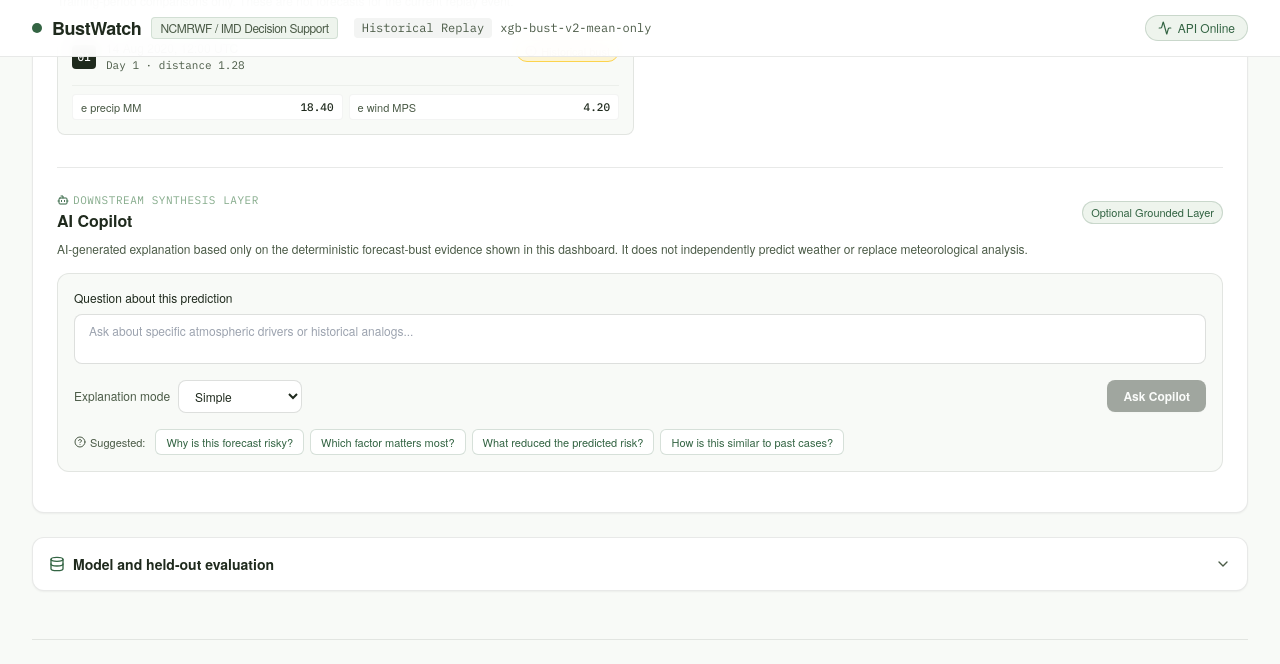
Test: AI Copilot panel › supports quick prompts, keyboard input, mode selection, and a grounded response
This screenshot has width=1280, height=664.
(page scrolled)
Expected: the heading "AI Copilot" is shown, [57,208,132,232]
Click the button "Which factor matters most?": [388, 442] box [310,428,466,455]
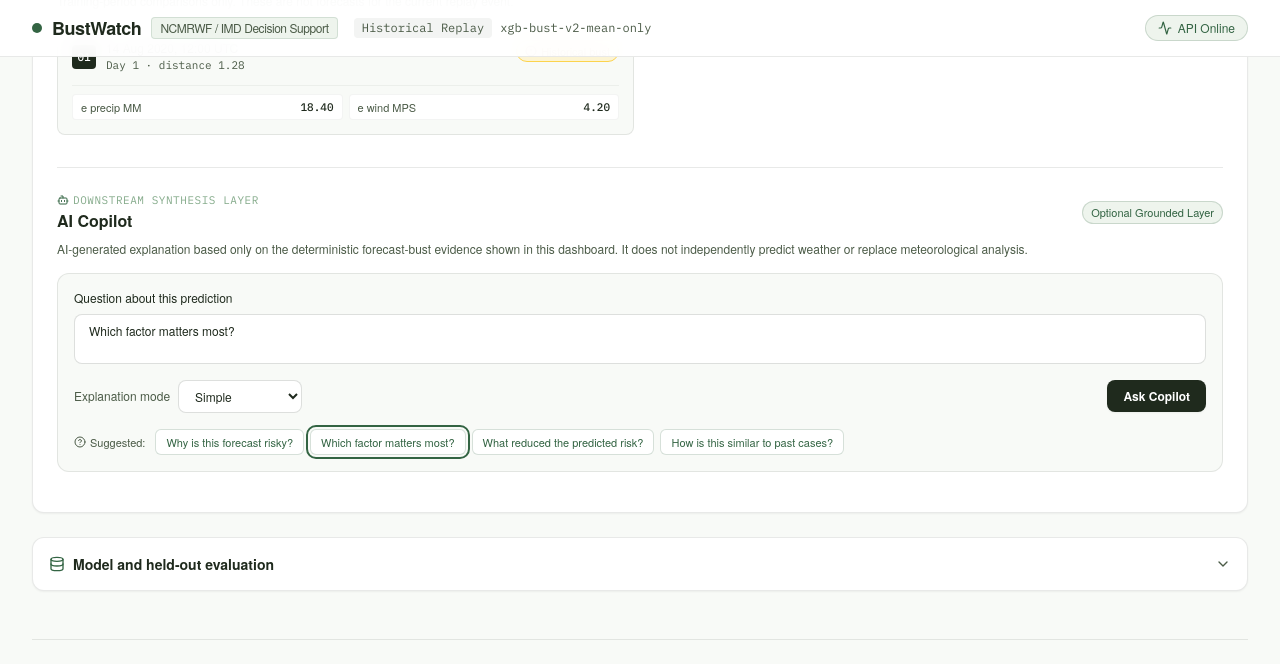
Now the text box labelled "Question about this prediction" holds "Which factor matters most?", box [74,314,1206,364]
Select "meteorological" in the dropdown labelled "Explanation mode": [240, 396] box [178,380,302,412]
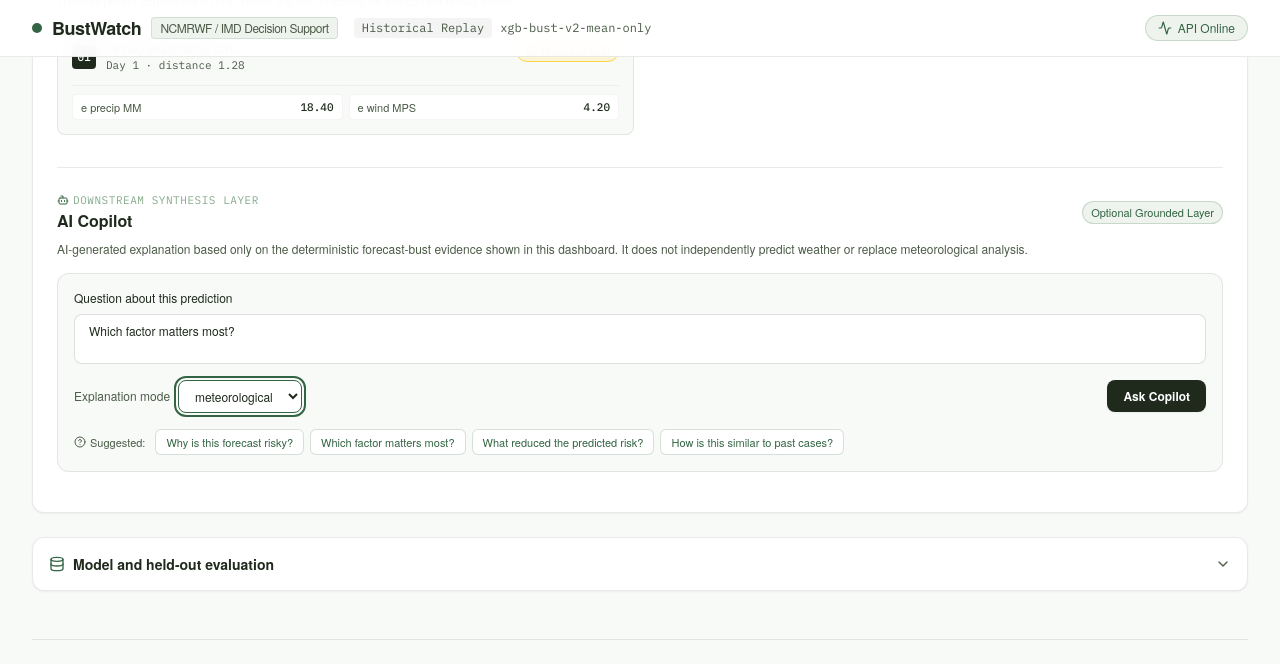
Press Tab
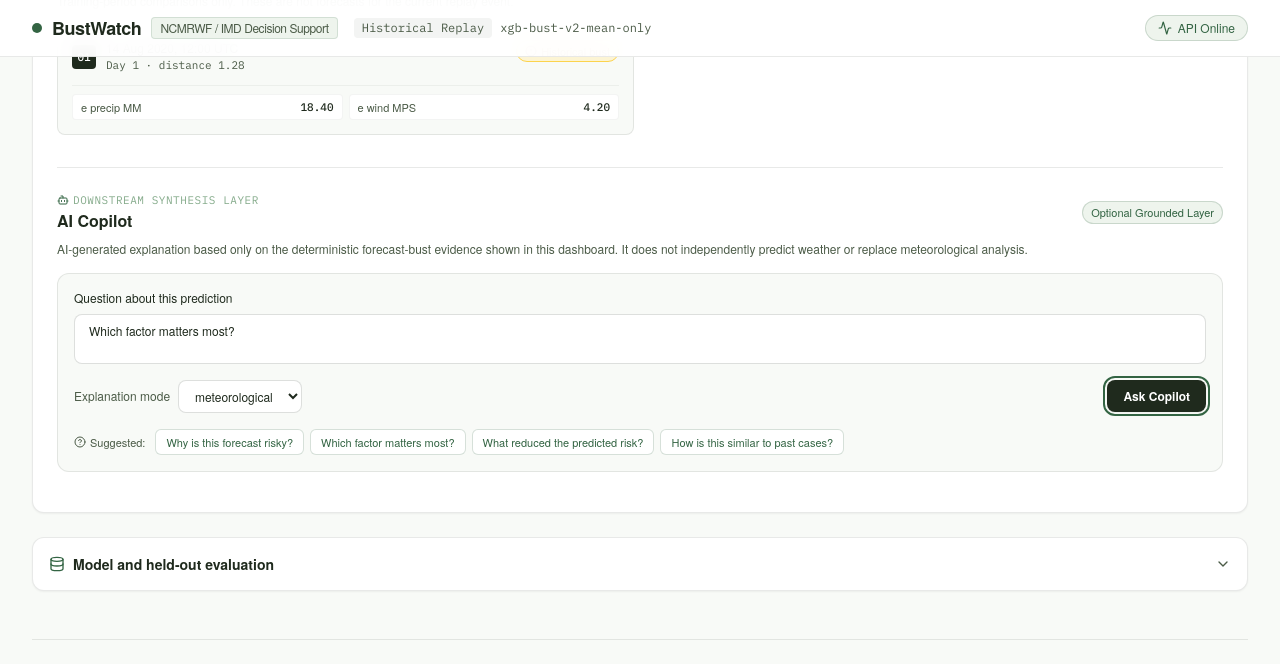
Click the button "Ask Copilot": [1157, 396] box [1107,380,1206,412]
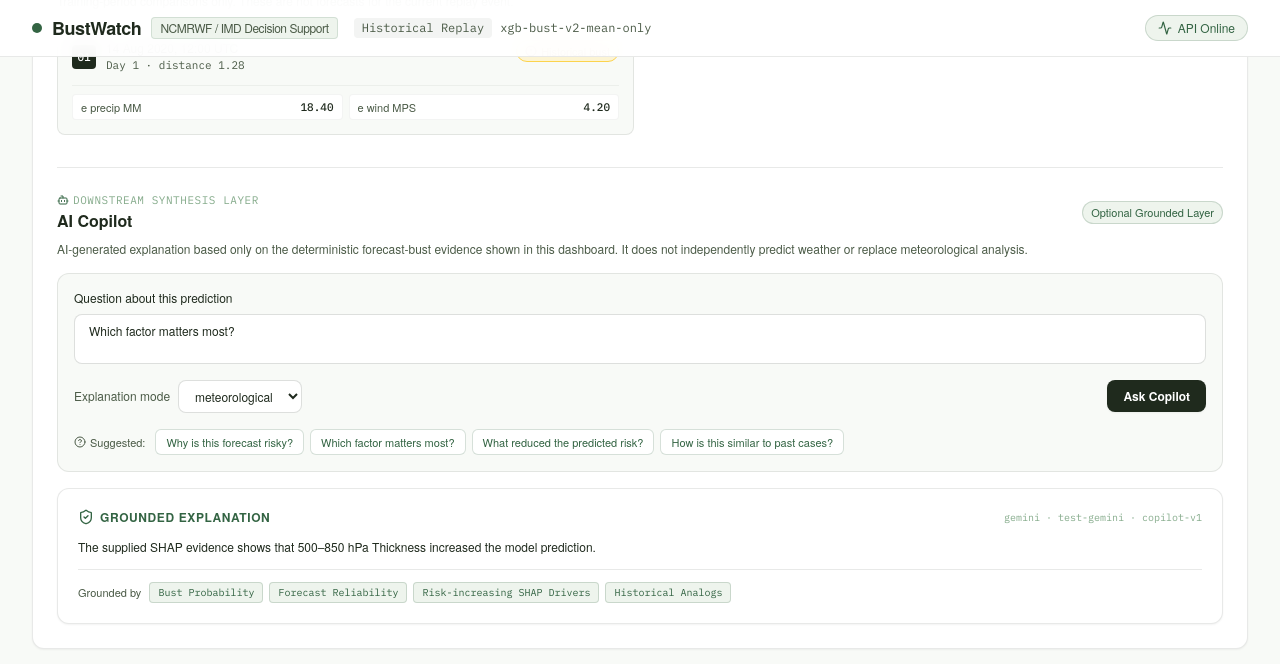
Now the text "500–850 hPa Thickness increased" is shown, box [78,538,596,555]
Now the element named "Evidence grounding sources" shows "Bust Probability", box [158,586,254,598]
Now the element named "Evidence grounding sources" shows "Historical Analogs", box [614,586,722,598]
